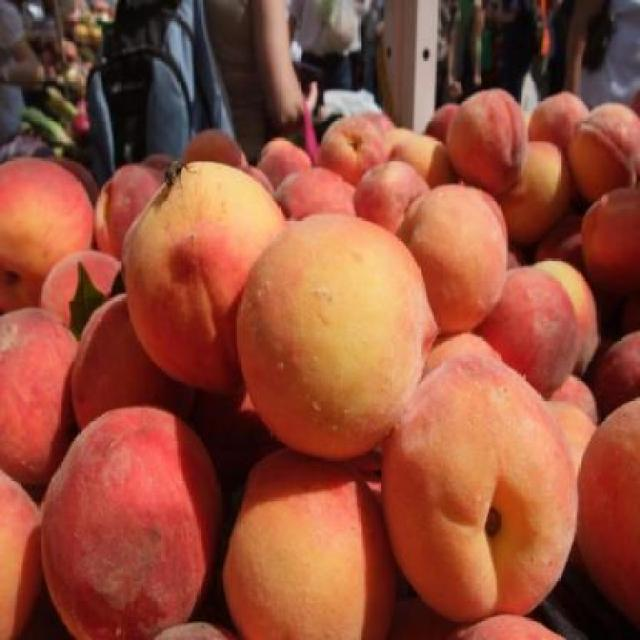Peach: (0, 86, 640, 640)
